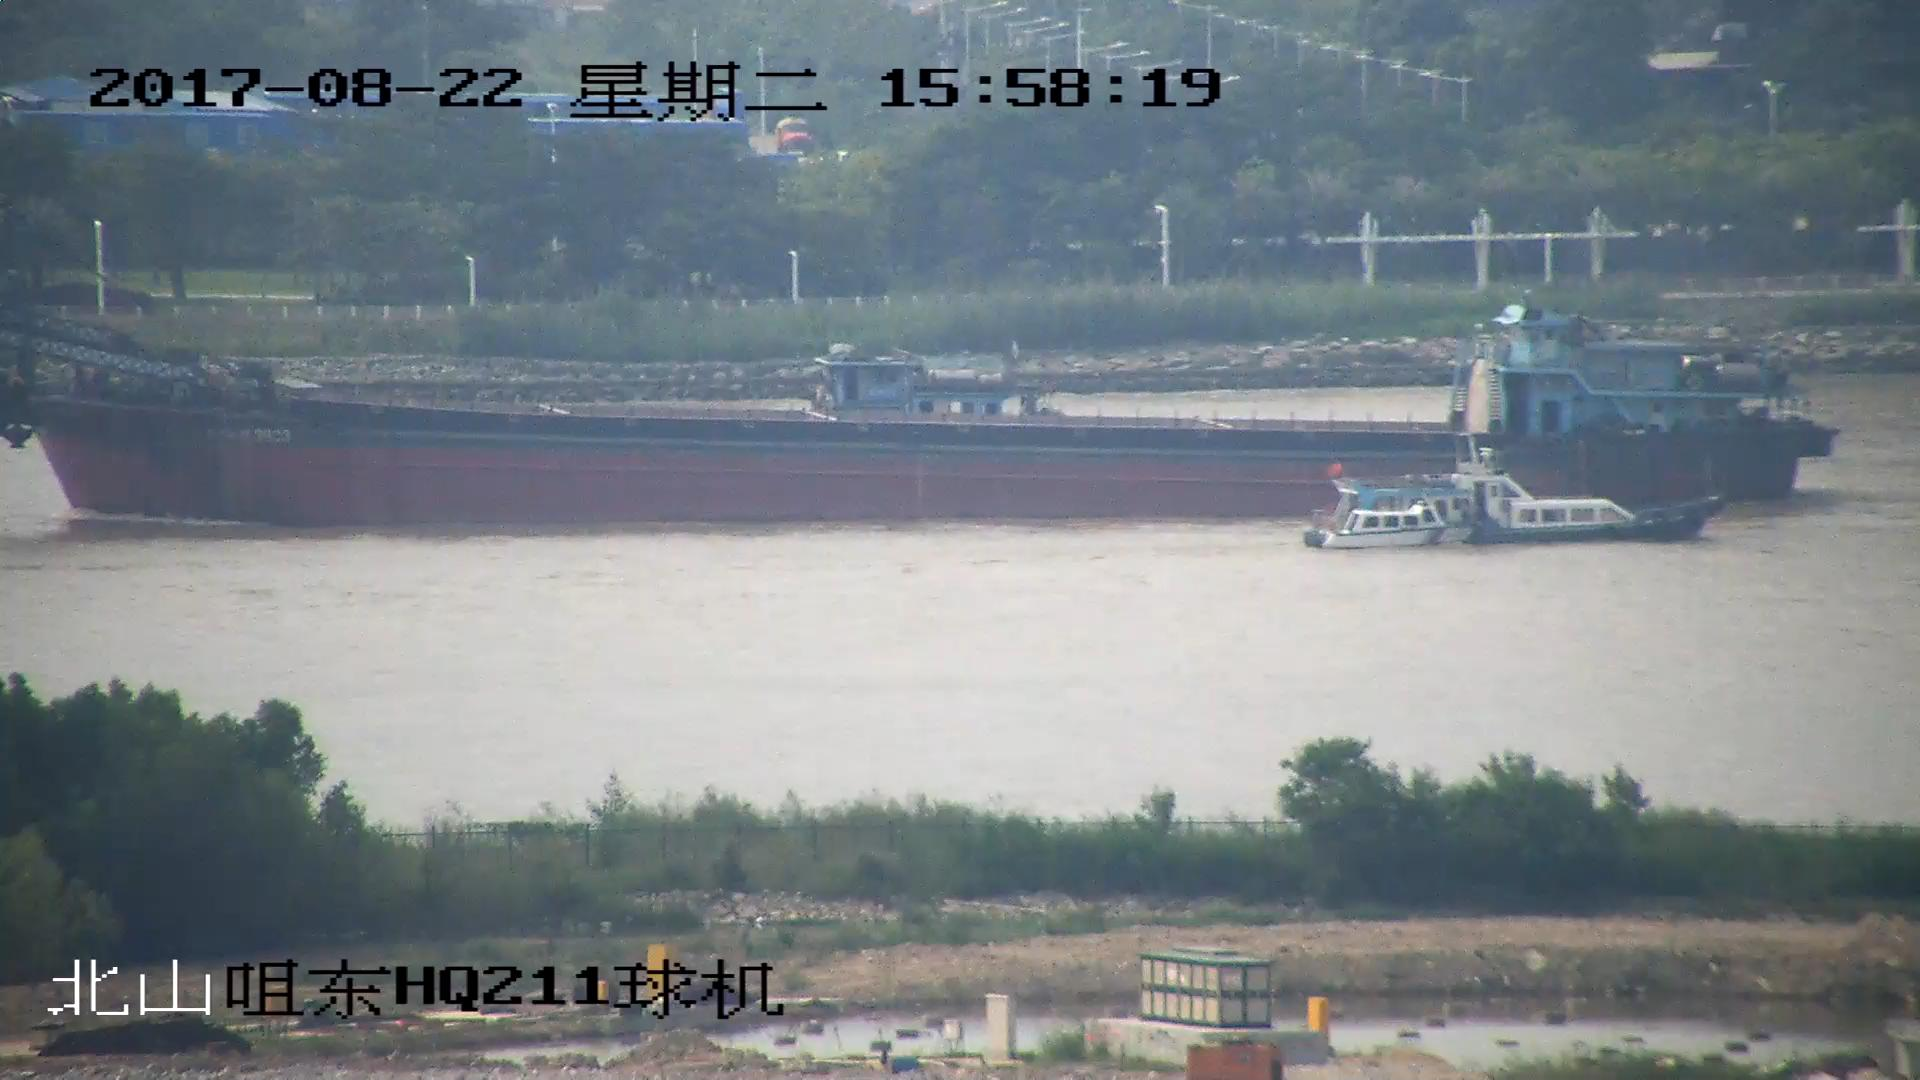bulk cargo carrier: (1, 290, 1831, 525)
fishing boat: (1310, 439, 1729, 550)
